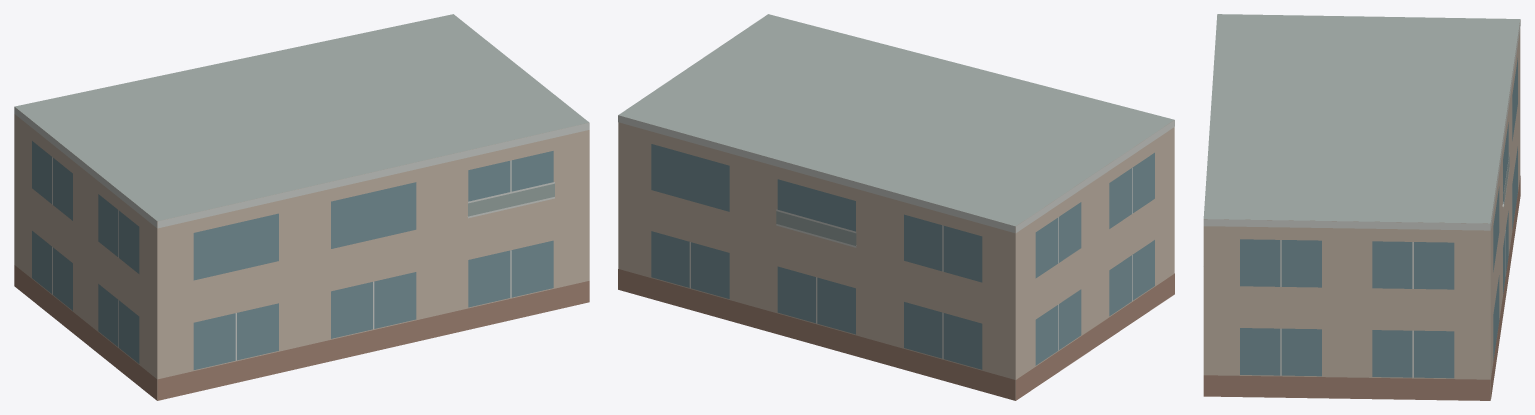
File: survey-upis-32574499.glb
3 views of the same model, side by side, from view 1: azimuth 30°, elevation 25°; view 2: azimuth 150°, elevation 25°; view 3: azimuth 270°, elevation 25° (orthographic). The views are drawn at different scales.
Visible parts, largest first — view 1: survey-upis-32574499.tmp; view 2: survey-upis-32574499.tmp; view 3: survey-upis-32574499.tmp.
Boxes of the visible parts, x1,y1,x2,y2 form: survey-upis-32574499.tmp: (14, 14, 589, 400); survey-upis-32574499.tmp: (618, 14, 1174, 400); survey-upis-32574499.tmp: (1203, 14, 1520, 400).
Bounding box in the file's own units: 15.46 × 6.1 × 9.88.
